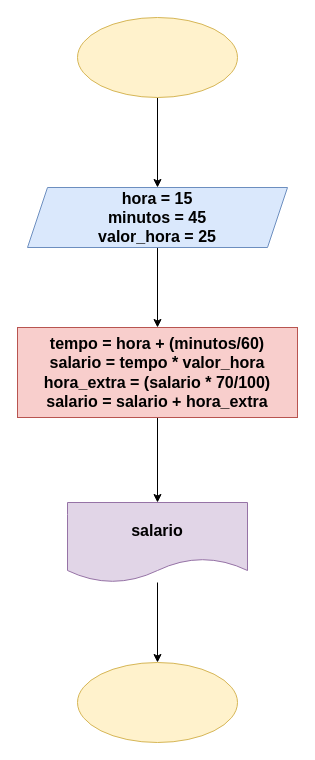
Image size: 315x760. Some labels were removed from this diagram. The centre of each missing label's shape, as x and y in pixels:
fim: [157,702]
inicio: [157,57]
